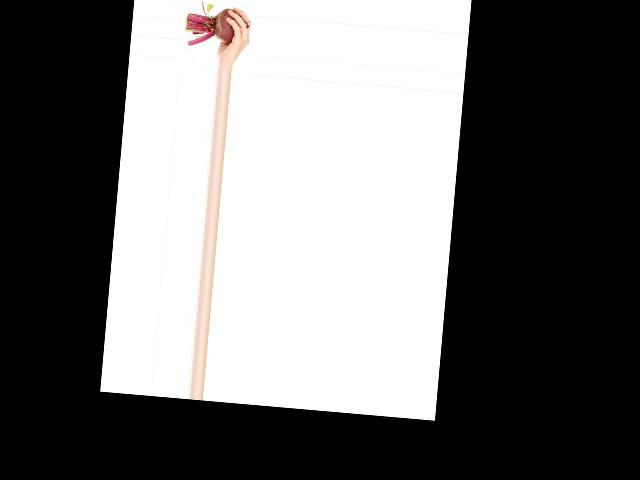beet: (184, 0, 251, 50)
